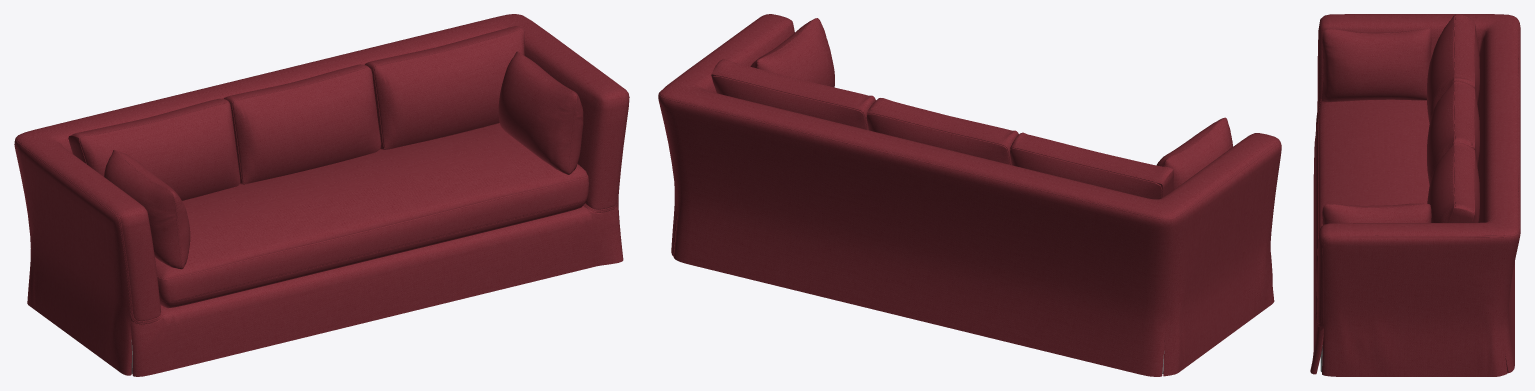
3 views of the same model, side by side, from view 1: azimuth 30°, elevation 25°; view 2: azimuth 150°, elevation 25°; view 3: azimuth 270°, elevation 25° (orthographic). The views are drawn at different scales.
Visible parts, largest first — view 1: objheadusOBJexport011, objheadusOBJexport, objPlane03, objPlane20, objPlane23, objBox09, objBox11; view 2: objheadusOBJexport011, objPlane23, objPlane20, objPlane03, objBox09, objBox11; view 3: objheadusOBJexport011, objheadusOBJexport, objBox11, objPlane20, objPlane23, objPlane03, objBox09.
Part boxes in pixels (box(x1,y1,x2,y2)): objheadusOBJexport011: box(14, 14, 629, 376); objheadusOBJexport: box(155, 123, 588, 308); objPlane03: box(223, 64, 381, 184); objPlane20: box(364, 26, 524, 149); objPlane23: box(68, 98, 240, 200); objBox09: box(498, 51, 583, 174); objBox11: box(104, 150, 190, 269); objheadusOBJexport011: box(658, 14, 1281, 376); objPlane23: box(1010, 132, 1173, 199); objPlane20: box(711, 59, 875, 130); objPlane03: box(866, 98, 1018, 165); objBox09: box(750, 18, 834, 87); objBox11: box(1156, 117, 1232, 189); objheadusOBJexport011: box(1310, 14, 1520, 376); objheadusOBJexport: box(1315, 99, 1429, 298); objBox11: box(1321, 29, 1431, 102); objPlane20: box(1427, 142, 1479, 222); objPlane23: box(1427, 14, 1479, 123); objPlane03: box(1427, 81, 1479, 184); objBox09: box(1322, 203, 1431, 224).
Size of the model in its own units: 2592 by 858 by 1029.
